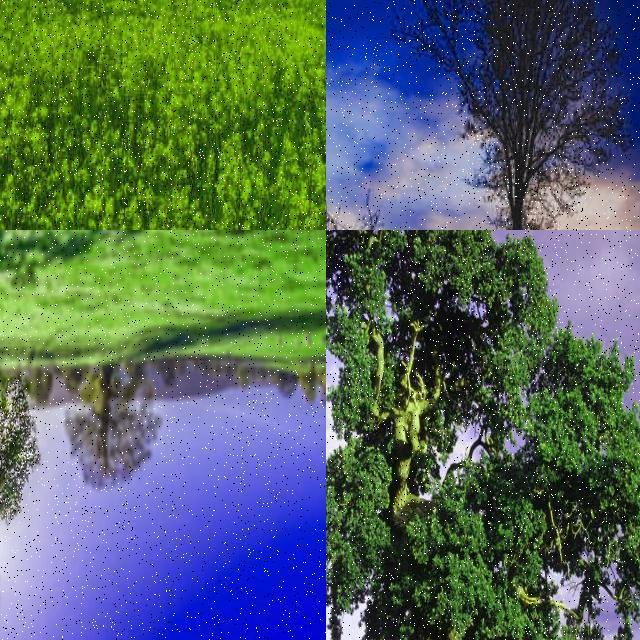tree: (326, 230, 640, 640), (402, 0, 640, 230), (0, 307, 143, 640), (65, 351, 168, 497), (144, 0, 190, 32)
